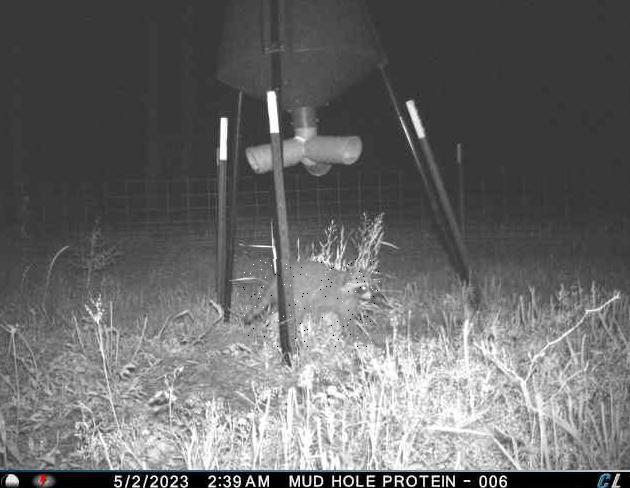Raccoon: (244, 259, 382, 347)
